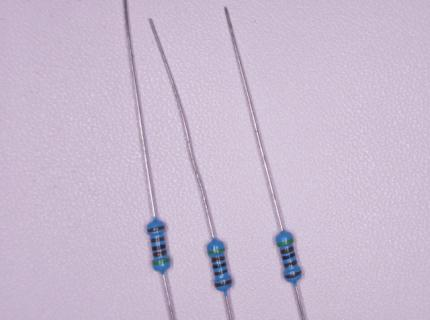Black band: (213, 262, 227, 270), (282, 253, 295, 261), (152, 244, 166, 251)
Brown band: (214, 279, 233, 288), (147, 225, 165, 233), (285, 271, 302, 279), (283, 260, 298, 268), (280, 246, 294, 254), (153, 250, 167, 258), (210, 256, 225, 263), (214, 269, 229, 276), (151, 236, 165, 243)
Green band: (276, 238, 295, 248), (152, 258, 170, 266), (207, 247, 225, 255)
